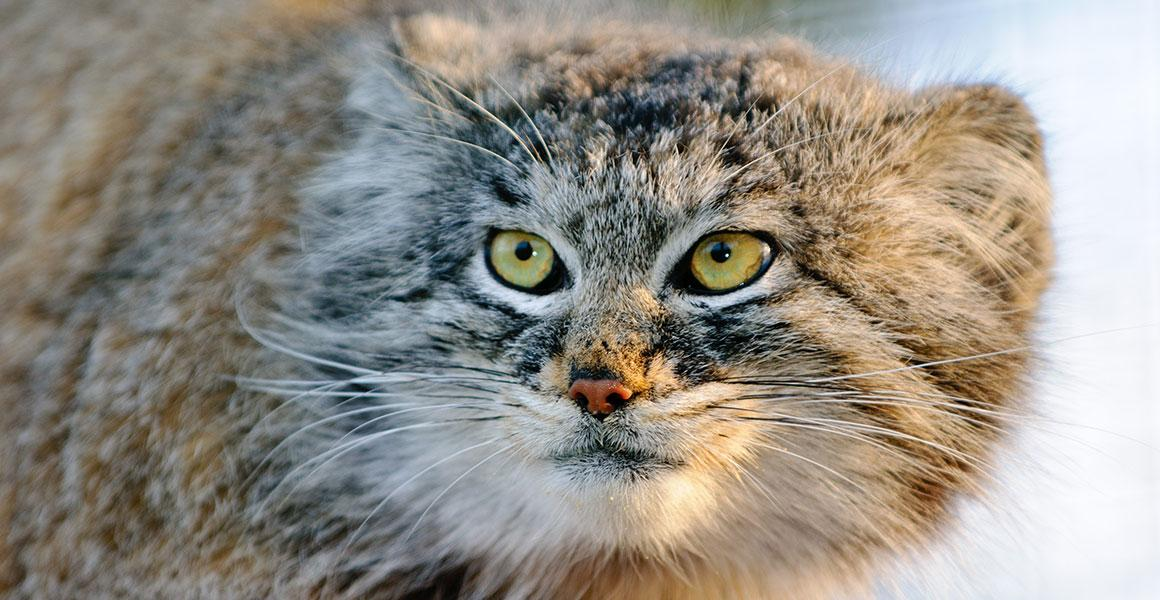Cat: (245, 11, 971, 600)
